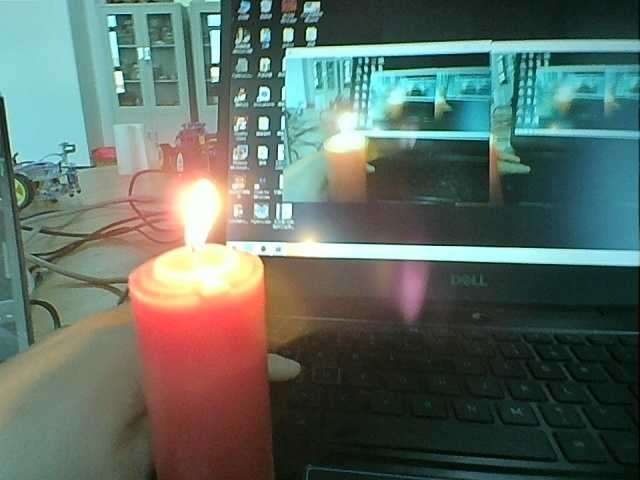candle: (124, 254, 277, 480), (321, 141, 371, 203)
fire: (166, 178, 222, 251), (335, 115, 357, 140)
